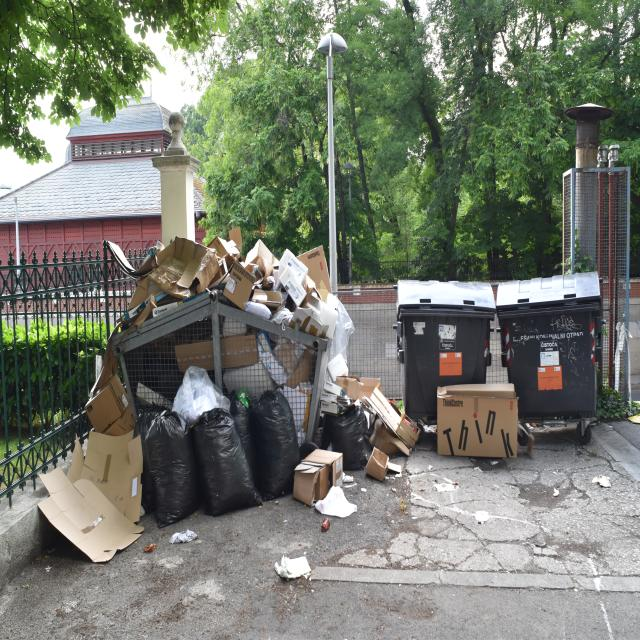entulho: (27, 428, 146, 569), (106, 234, 305, 310), (439, 383, 521, 461), (86, 355, 140, 445), (289, 239, 340, 334), (368, 384, 418, 455), (297, 442, 347, 503), (331, 357, 382, 400)
lixo domiciliar: (193, 412, 262, 512), (150, 414, 200, 523), (256, 392, 306, 498), (322, 388, 369, 471), (227, 388, 268, 475), (176, 368, 229, 427), (136, 405, 175, 484), (315, 486, 359, 521), (270, 547, 312, 582), (170, 530, 200, 543), (593, 474, 612, 489), (320, 516, 331, 531), (144, 544, 157, 552)
